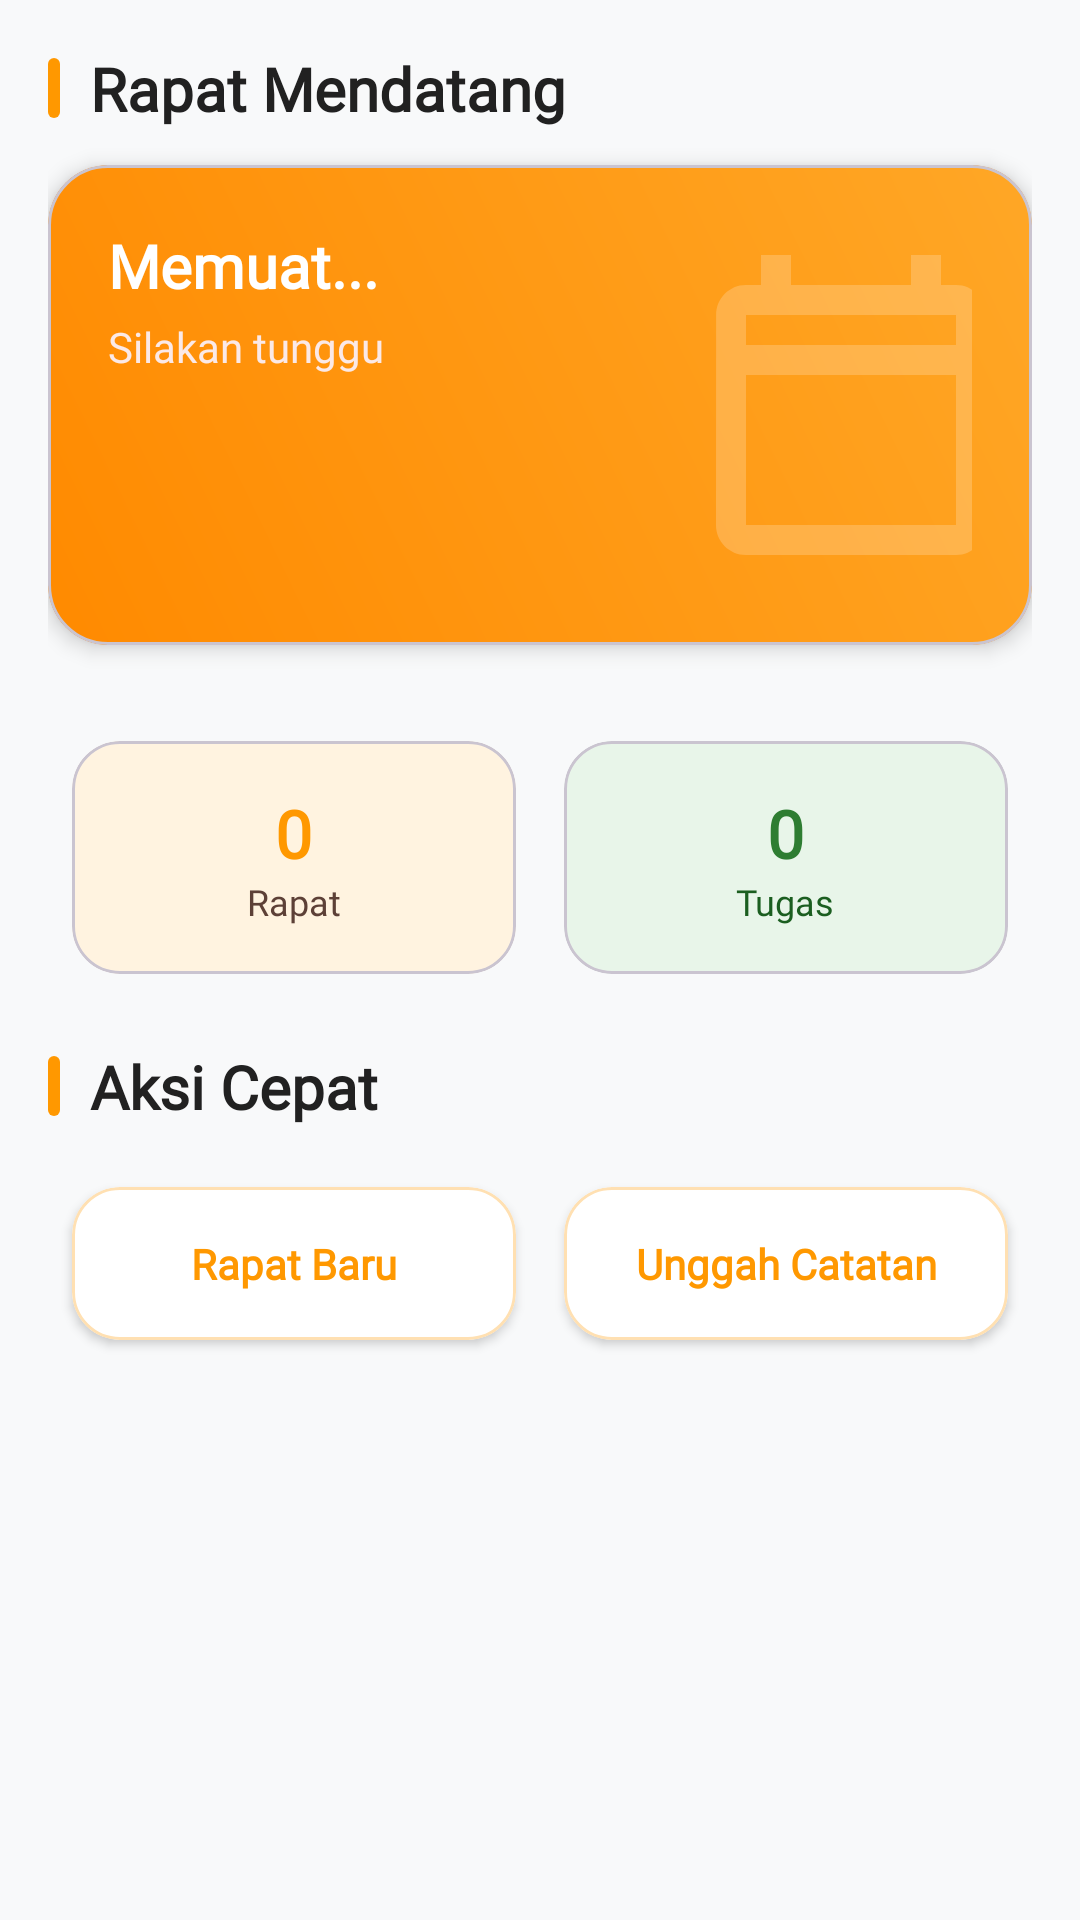

Locate icon controls on the screen. Image size 1080px x 1920px, boxes as (x1, y1, x2, y2).
Calendar Icon: (716, 255, 972, 555)
